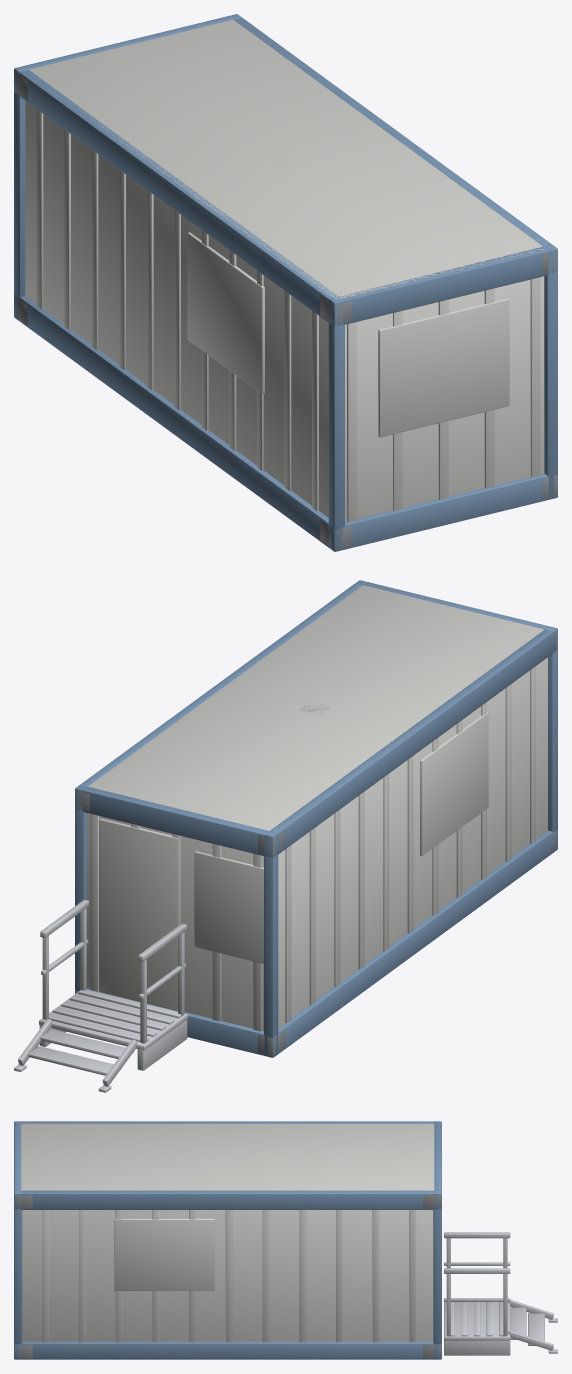
File: th21_baucontainer.glb
The picture shows the model from 3 angles, top to bottom: view 1: azimuth 30°, elevation 25°; view 2: azimuth 150°, elevation 25°; view 3: azimuth 270°, elevation 25°; orthographic projection. The views are drawn at different scales.
Parts seen in each view (by area): view 1: Cube.058, Cube.020, Cube.044, Cube.068, Cube.017, Cube.016, Cube.071, Cube.013, Cube.012, Cube, Cube.006, Cube.019 (+16 smaller); view 2: Cube.058, Cube.020, Cube.061, Cube.017, Cube.050, Cube.016, Cube.065, Cube.071, Cube.015, Cube.003, Cube.078, Cube.019 (+21 smaller); view 3: Cube.032, Cube.058, Cube.019, Cube.018, Cube.074, Cube.078, Cube.009, Cube.006, Cube.017, Cube.089, Cube.033, Cube.038 (+18 smaller).
Part boxes in pixels (bbox=[...]): Cube.058: bbox=[29, 20, 545, 299]; Cube.020: bbox=[25, 101, 328, 517]; Cube.044: bbox=[345, 276, 544, 521]; Cube.068: bbox=[378, 298, 509, 437]; Cube.017: bbox=[14, 67, 343, 322]; Cube.016: bbox=[19, 296, 334, 547]; Cube.071: bbox=[187, 232, 264, 394]; Cube.013: bbox=[329, 245, 557, 326]; Cube.012: bbox=[329, 473, 557, 551]; Cube: bbox=[328, 296, 344, 551]; Cube.006: bbox=[544, 245, 557, 499]; Cube.019: bbox=[230, 14, 557, 271]; Cube.058: bbox=[88, 585, 544, 830]; Cube.020: bbox=[278, 657, 547, 1027]; Cube.061: bbox=[99, 818, 178, 1011]; Cube.017: bbox=[265, 626, 557, 856]; Cube.050: bbox=[87, 813, 263, 1031]; Cube.016: bbox=[265, 830, 557, 1057]; Cube.065: bbox=[194, 851, 263, 963]; Cube.071: bbox=[420, 712, 488, 855]; Cube.015: bbox=[75, 785, 278, 857]; Cube.003: bbox=[264, 834, 278, 1057]; Cube.078: bbox=[39, 989, 188, 1050]; Cube.019: bbox=[75, 580, 366, 790]; Cube.032: bbox=[22, 1210, 433, 1341]; Cube.058: bbox=[21, 1124, 434, 1190]; Cube.019: bbox=[14, 1190, 441, 1209]; Cube.018: bbox=[14, 1341, 434, 1359]; Cube.074: bbox=[114, 1218, 214, 1290]; Cube.078: bbox=[444, 1301, 510, 1340]; Cube.009: bbox=[433, 1194, 441, 1348]; Cube.006: bbox=[14, 1194, 22, 1344]; Cube.017: bbox=[14, 1121, 441, 1124]; Cube.089: bbox=[444, 1340, 510, 1355]; Cube.033: bbox=[42, 1210, 49, 1342]; Cube.038: bbox=[225, 1210, 232, 1342].
Size of the model in its own units: 2.44 by 2.6 by 7.71.
